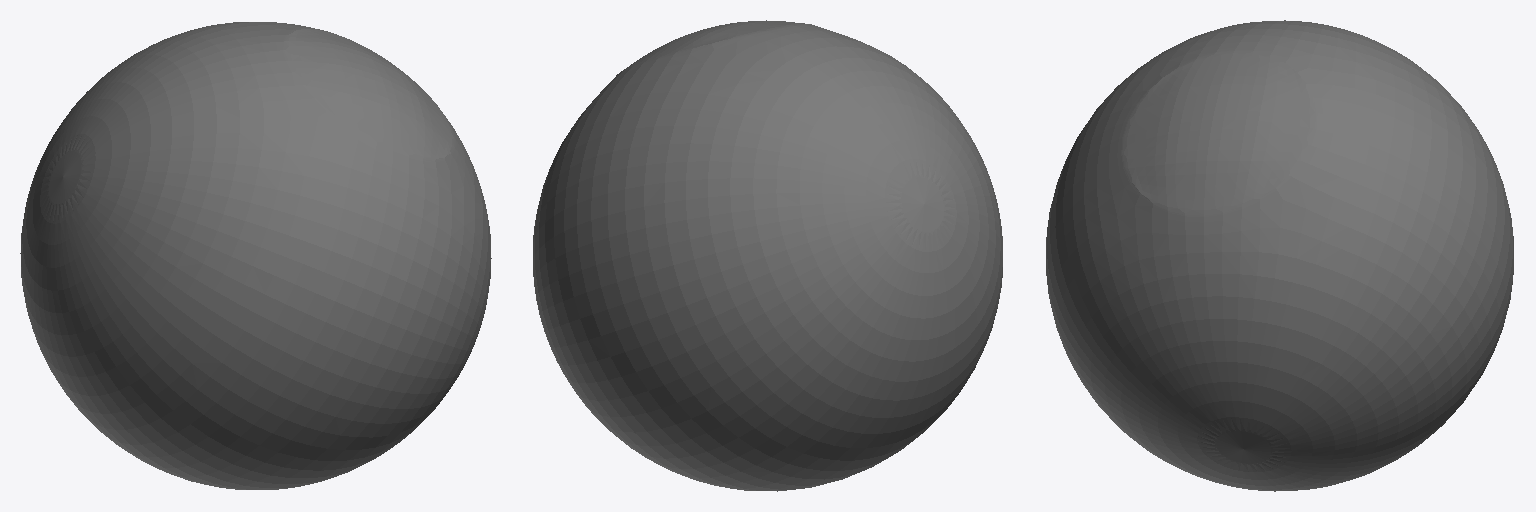
URDF robot description (14_ball):
<?xml version="1.0"?>
<robot name="14_ball">
  <link name="base">
    <visual>
      <geometry>
        <mesh filename="14_ball.obj" scale="1 1 1"/>
      </geometry>
      <material name="gray">
        <color rgba="0.5 0.5 0.5 1.0"/>
      </material>
    </visual>
    <collision>
      <geometry>
        <mesh filename="14_ball.obj" scale="1 1 1"/>
      </geometry>
    </collision>
    <inertial>
      <mass value="1.000"/>
      <inertia
          ixx="0.001030" ixy="0.000000" ixz="0.000000"
          iyy="0.001034" iyz="0.000000"
          izz="0.001032"/>
      <origin xyz="-0.016134 -0.081025 0.833114" rpy="0 0 0"/>
    </inertial>
  </link>
</robot>

--- What the picture shows (computed from the rendered views, not written in the file) ---
Views: 3 orthographic renders of the robot side by side, from view 1: azimuth 30°, elevation 25°; view 2: azimuth 150°, elevation 25°; view 3: azimuth 270°, elevation 25°.
Model 14_ball with 1 links and 0 joints (none), rooted at base, posed all joints at 0.
Links seen in each view (by area): view 1: base; view 2: base; view 3: base.
Link boxes in pixels (x1=…): base: x1=20, y1=22, x2=491, y2=489; base: x1=533, y1=20, x2=1002, y2=491; base: x1=1046, y1=20, x2=1513, y2=491.
Bounding box of the posed robot: 0.0789 × 0.0785 × 0.0787 m (x, y, z).
1 mesh visuals loaded from 1 distinct referenced files (1 OBJ).
